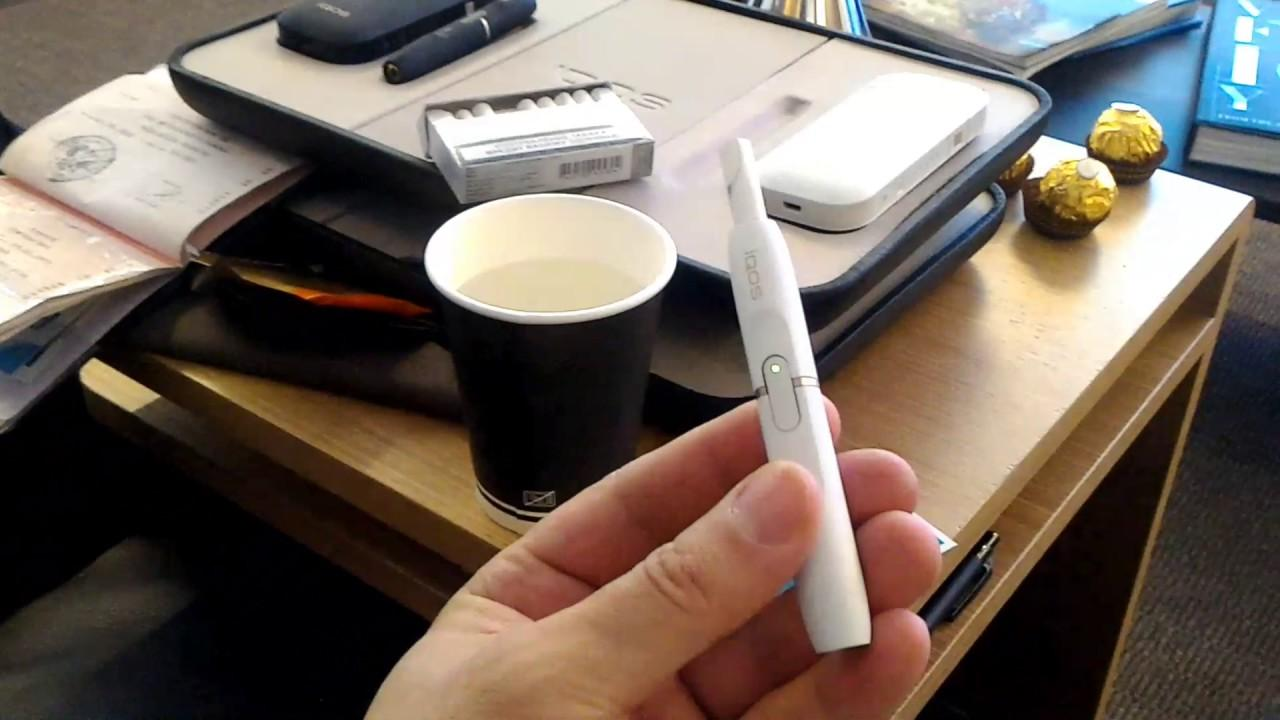iqos: (721, 138, 870, 653)
